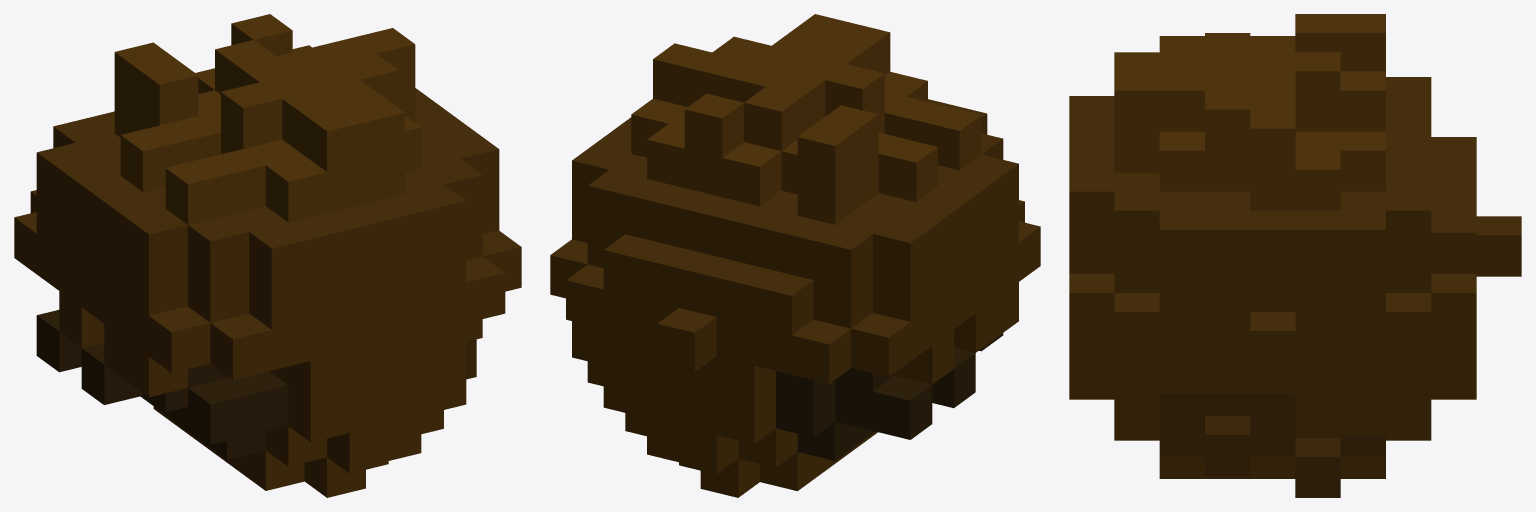
File: AsteroidV2.dae
3 views of the same model, side by side, from view 1: azimuth 30°, elevation 25°; view 2: azimuth 150°, elevation 25°; view 3: azimuth 270°, elevation 25° (orthographic). The views are drawn at different scales.
Visible parts, largest first — view 1: AsteroidV2; view 2: AsteroidV2; view 3: AsteroidV2.
Boxes of the visible parts, x1=… form: AsteroidV2: x1=14, y1=14, x2=521, y2=497; AsteroidV2: x1=550, y1=14, x2=1040, y2=497; AsteroidV2: x1=1069, y1=14, x2=1521, y2=497.
Bounding box in the file's own units: 10 × 9 × 10.
1 material, 1 textured.
